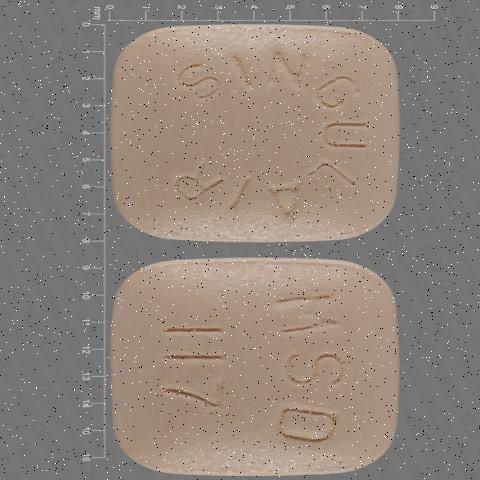Pill: (104, 247, 440, 480), (102, 10, 421, 248)
